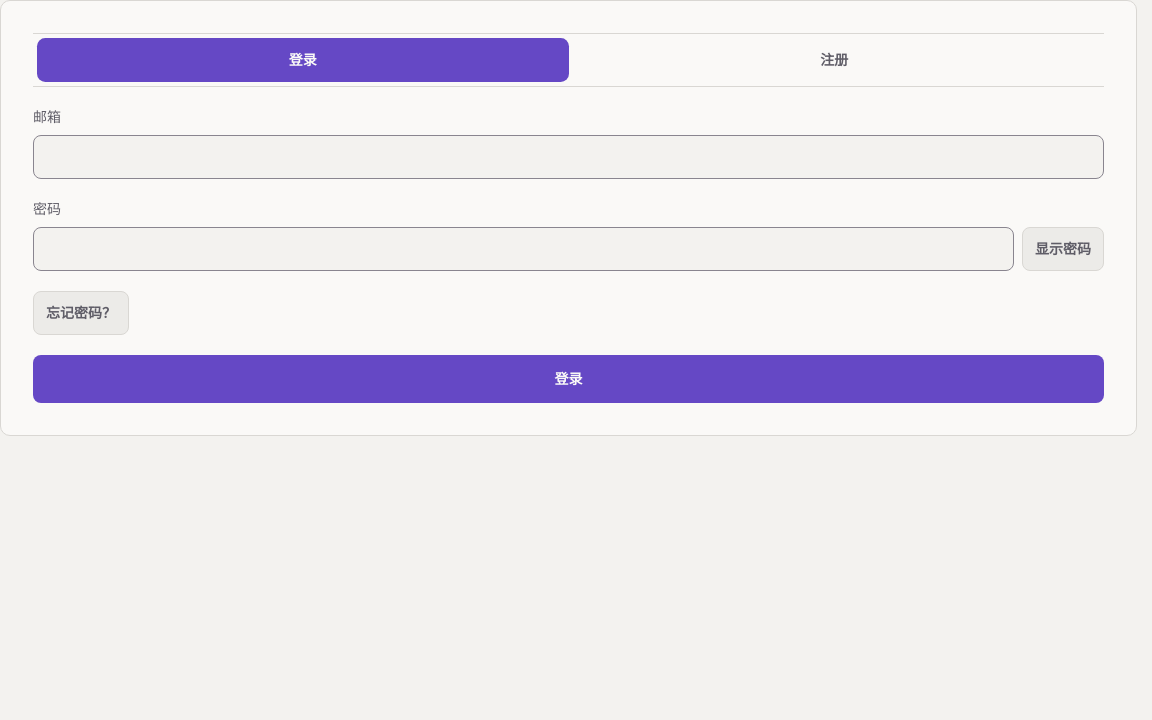
Test: AuthForm registration email policy › blocks a typo on blur, lets the user apply its suggestion, and waits for submit before requesting registration
Click the button "注册" at [834, 60], box top-left (568, 38), bottom-right (1100, 82)
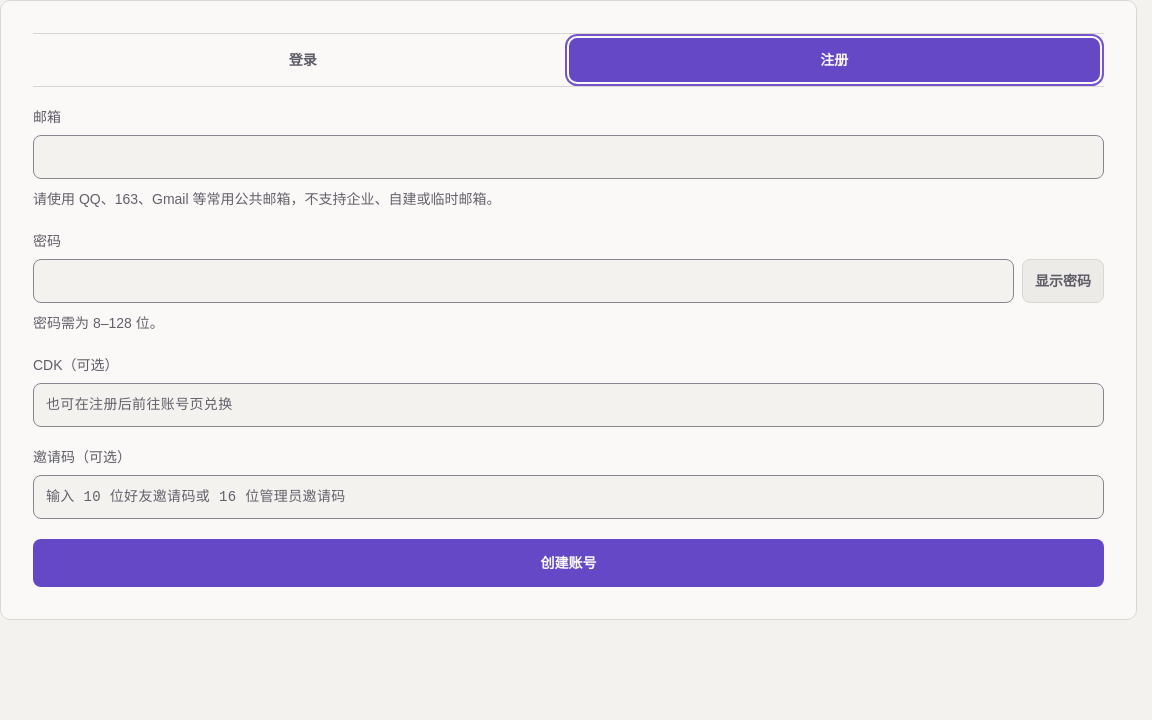
Type "correct@gmial.com" into the field labelled "邮箱" at [568, 157], box top-left (33, 135), bottom-right (1104, 179)
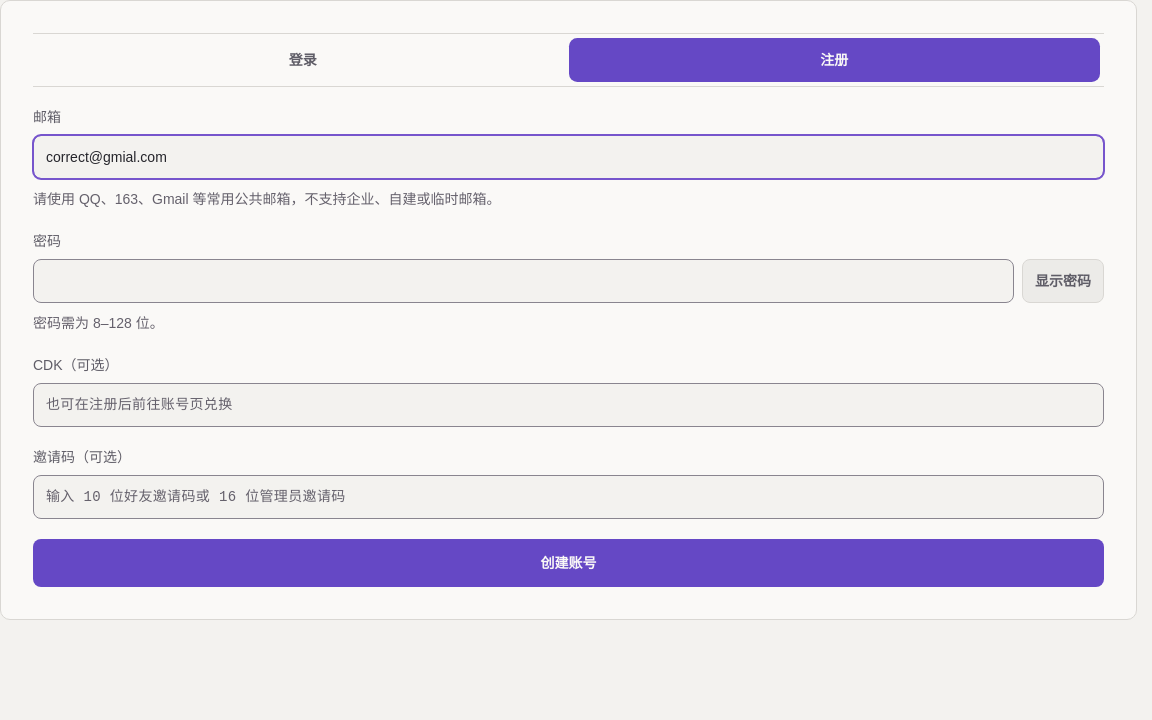
Press Tab
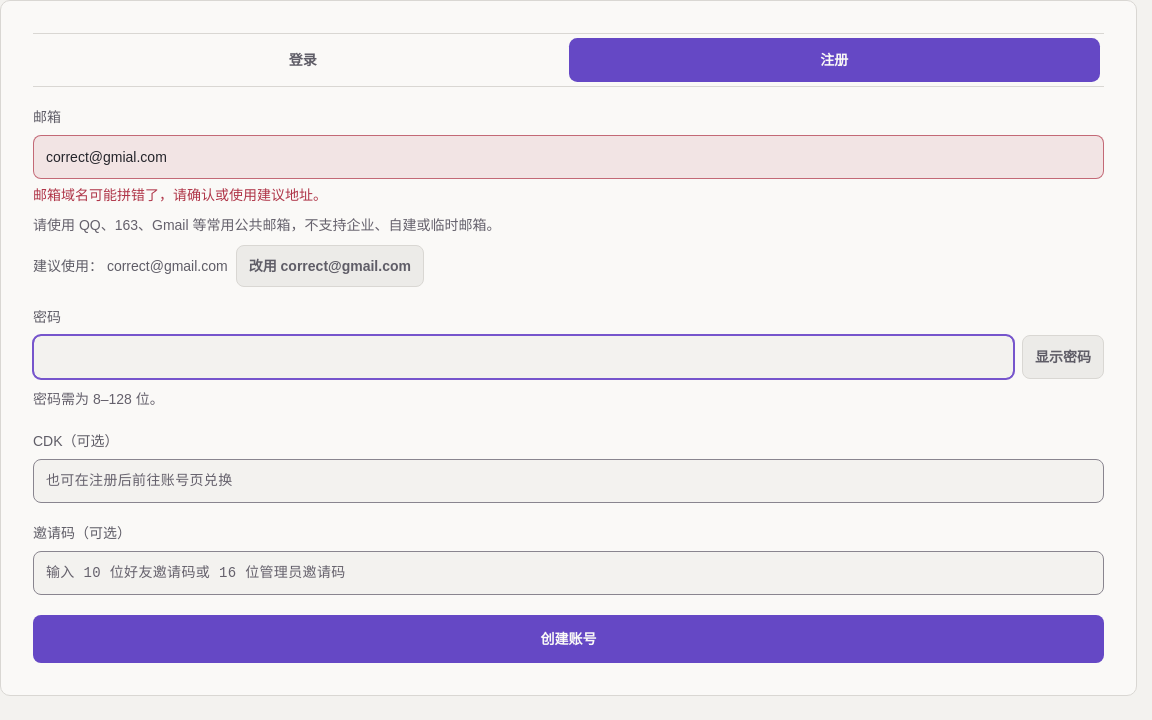
Click the button "改用 correct@gmail.com" at [330, 266], box top-left (236, 245), bottom-right (424, 287)
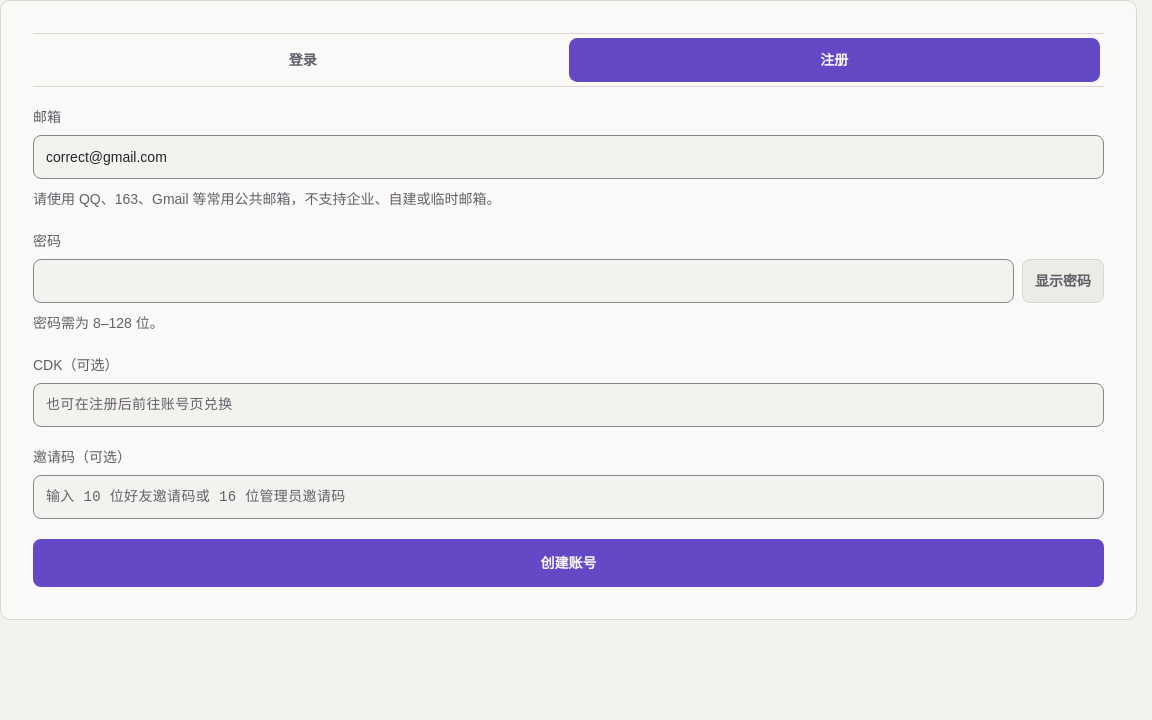
Check: the field labelled "邮箱" holds "correct@gmail.com", box top-left (33, 135), bottom-right (1104, 179)
Type "password123" into the password field labelled "密码" at [524, 281], box top-left (33, 259), bottom-right (1014, 303)
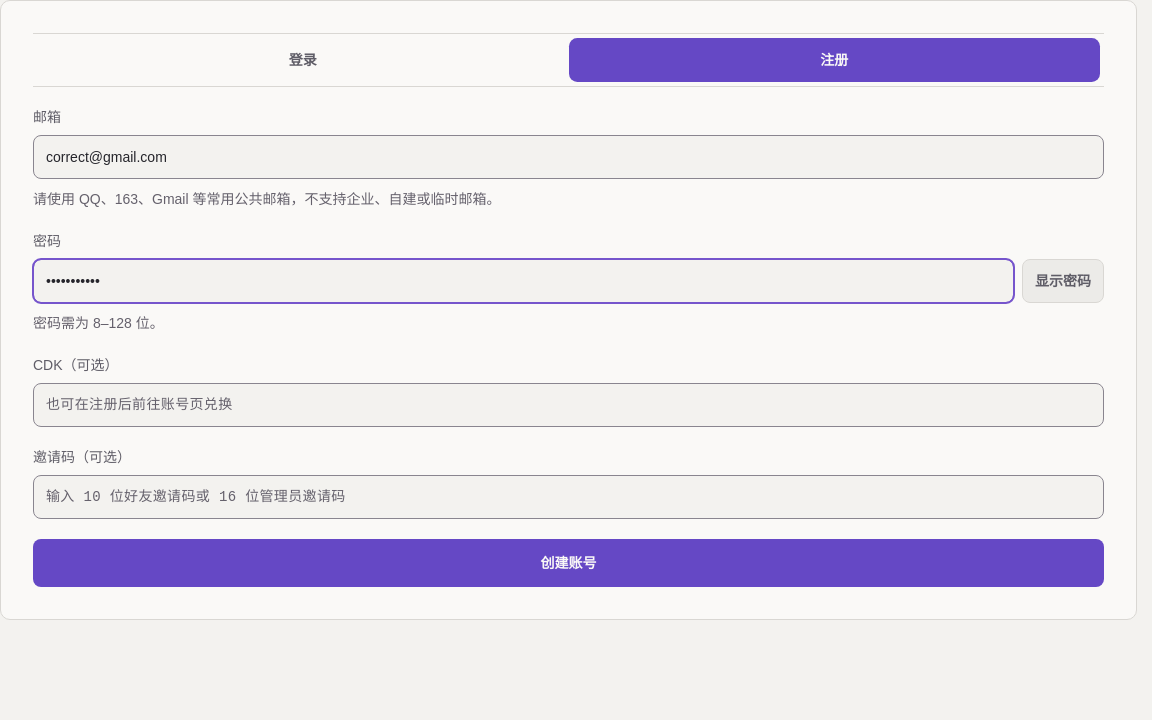
Click the button "创建账号" at [568, 563], box top-left (33, 539), bottom-right (1104, 587)
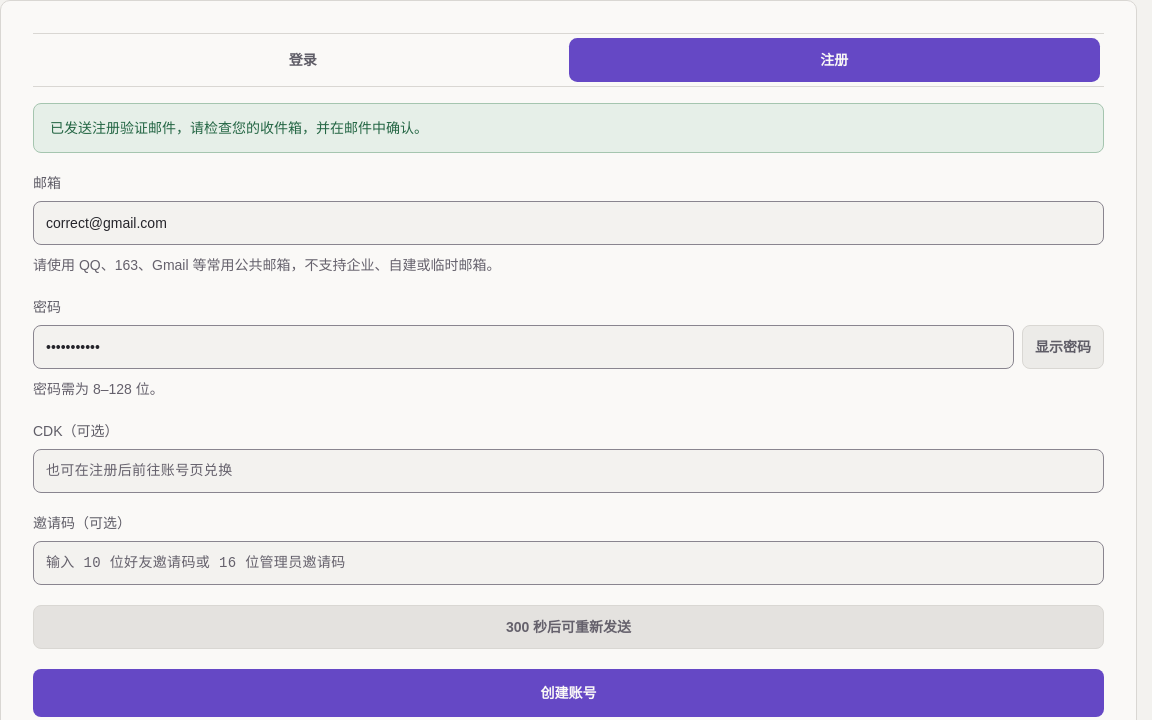
Check: the message shows "请检查您的收件箱", box top-left (50, 120), bottom-right (428, 136)
